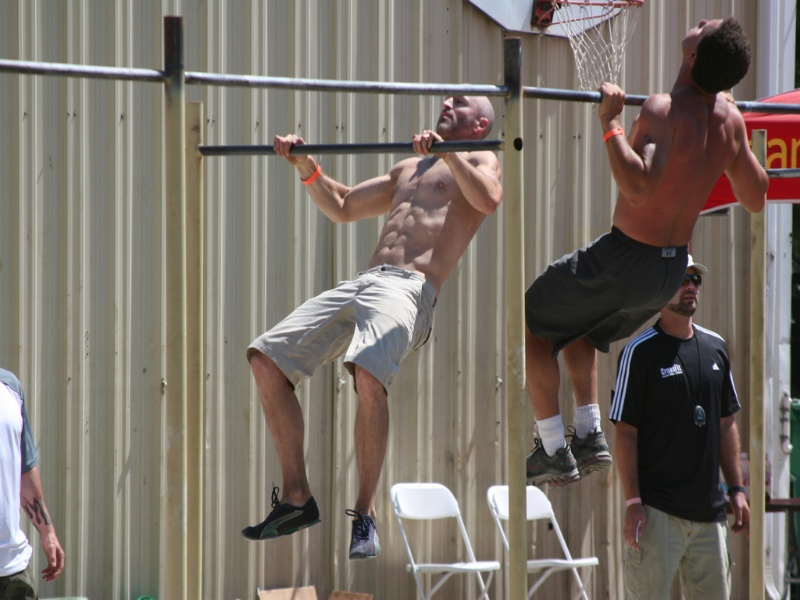chair: (387, 478, 502, 599), (497, 474, 604, 600)
person: (538, 18, 770, 474), (244, 67, 495, 467)
